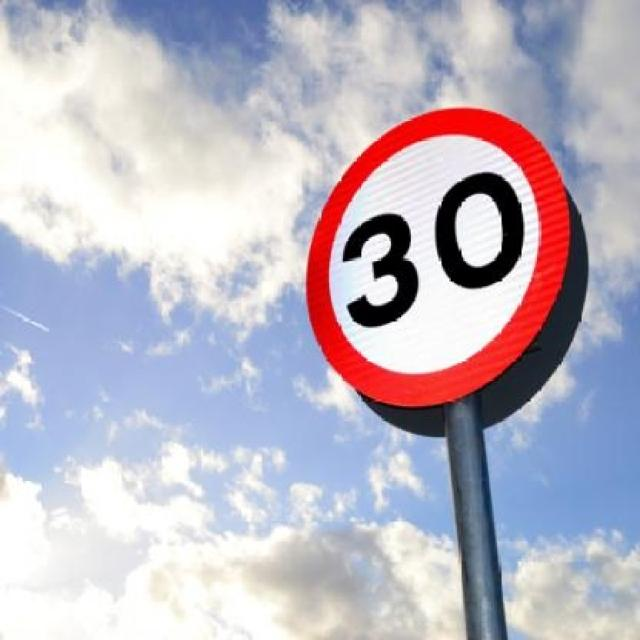forb_speed_over_30: (303, 107, 572, 405)
